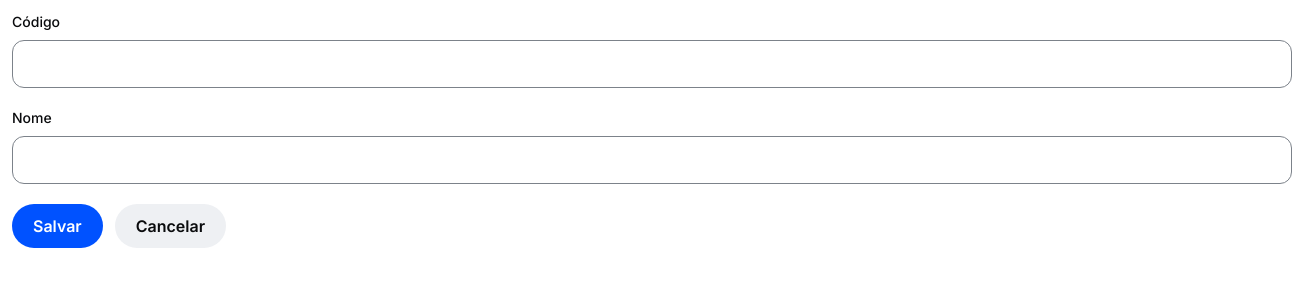
Test: GrupoForm › bloqueia no cliente o envio com código vazio
Type "Hematologia" into the field labelled "Nome" at (652, 160), box left=12, top=136, right=1292, bottom=184
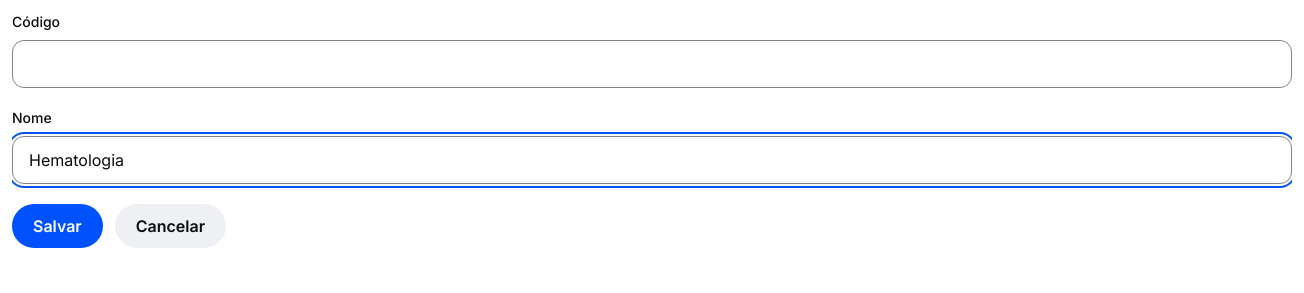
Click the button "Salvar" at (57, 226), box left=12, top=204, right=103, bottom=248
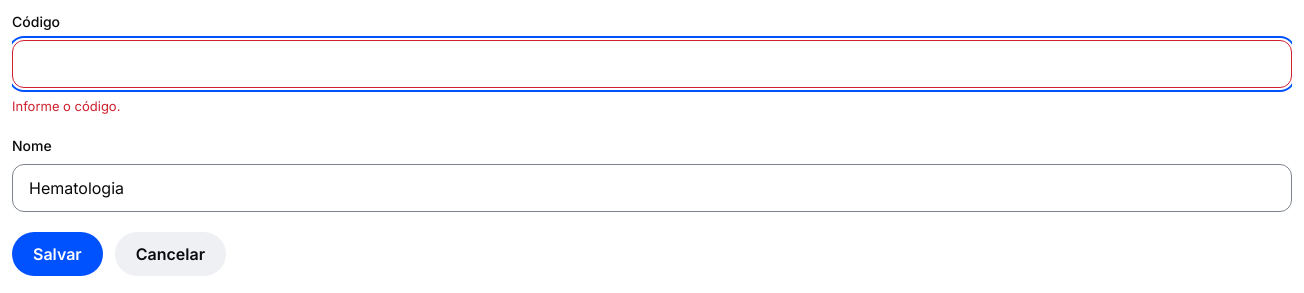
Expected: the text "Informe o código." is shown, left=12, top=98, right=120, bottom=114
